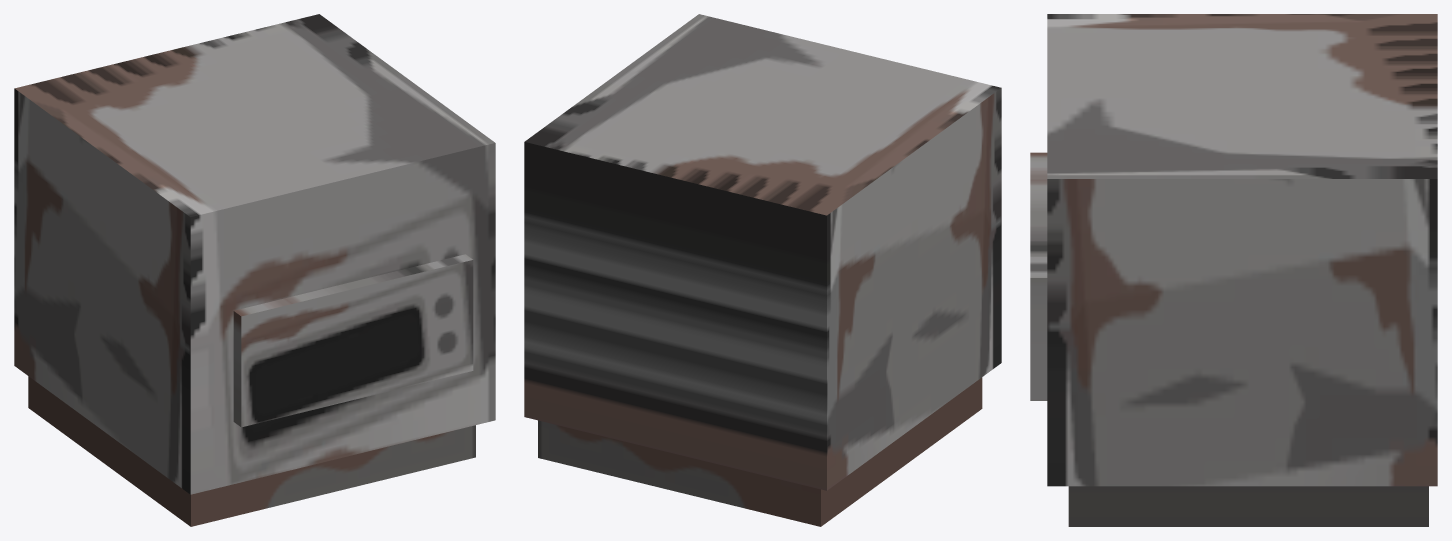
File: Building_AncientRustedMicrowave.obj
3 views of the same model, side by side, from view 1: azimuth 30°, elevation 25°; view 2: azimuth 150°, elevation 25°; view 3: azimuth 270°, elevation 25° (orthographic). The views are drawn at different scales.
Visible parts, largest first — view 1: Body; view 2: Body; view 3: Body.
Boxes of the visible parts, x1,y1,x2,y2 form: Body: [14, 14, 495, 526]; Body: [524, 14, 1001, 526]; Body: [1030, 14, 1437, 526].
Bounding box in the file's own units: 0.92 × 0.92 × 0.96.
Materials: 1 (1 with a texture image).
